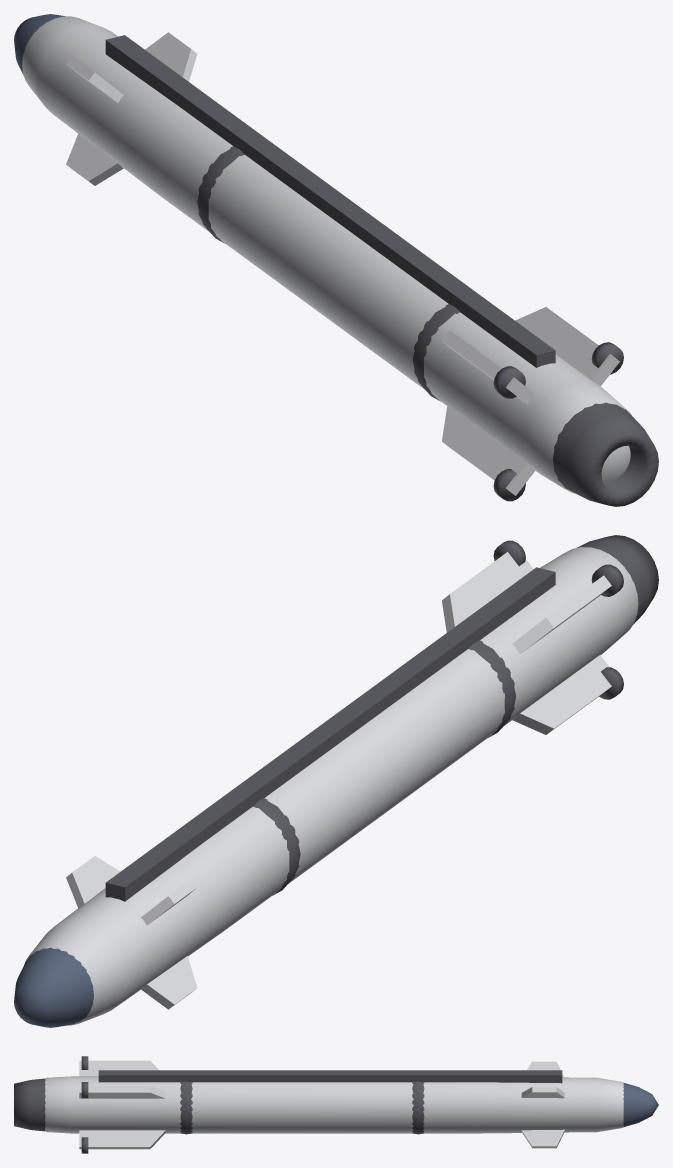
Rendered from missile.glb.
3 views of the same model, one above another, from view 1: azimuth 30°, elevation 25°; view 2: azimuth 150°, elevation 25°; view 3: azimuth 270°, elevation 25° (orthographic). The views are drawn at different scales.
Parts seen in each view (by area): view 1: missile; view 2: missile; view 3: missile.
Part boxes in pixels (x1=…): missile: x1=14, y1=14, x2=658, y2=506; missile: x1=14, y1=535, x2=658, y2=1027; missile: x1=14, y1=1056, x2=658, y2=1153.
Size of the model in its own units: 0.2834 by 0.2834 by 2.37.
